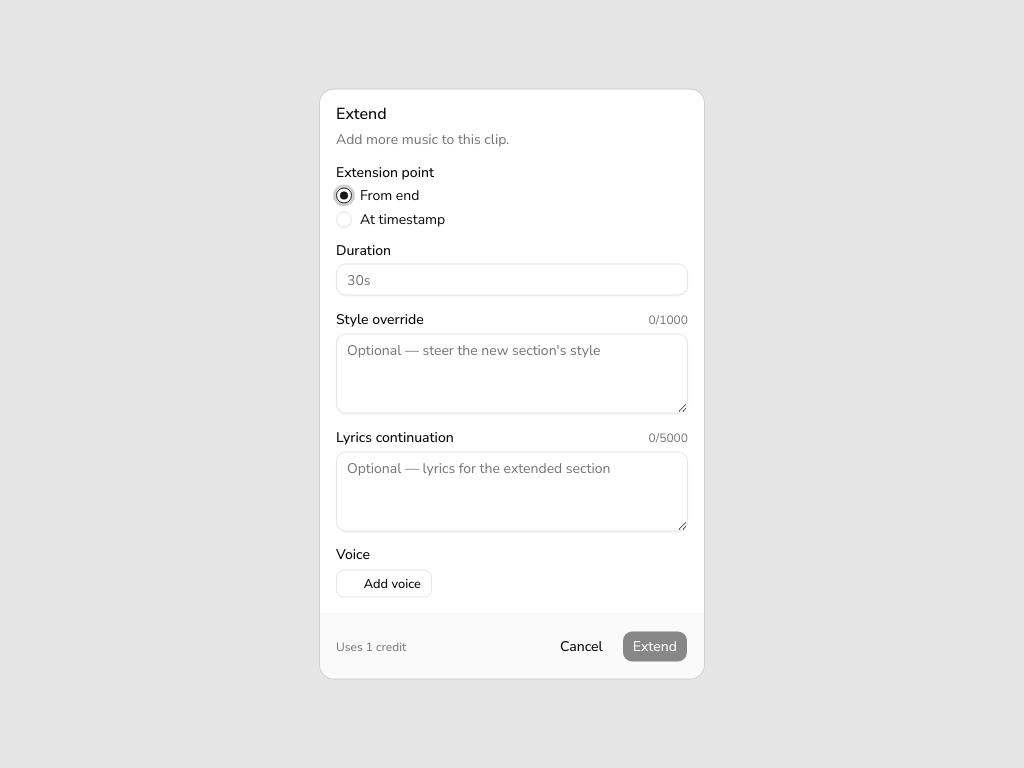
Test: ExtendModal › blocks an extend that would exceed the 240s generation cap
The image size is (1024, 768).
Type "60s" into the field labelled "Duration".
click(512, 280); type("60s")  # box [336,264,688,296]
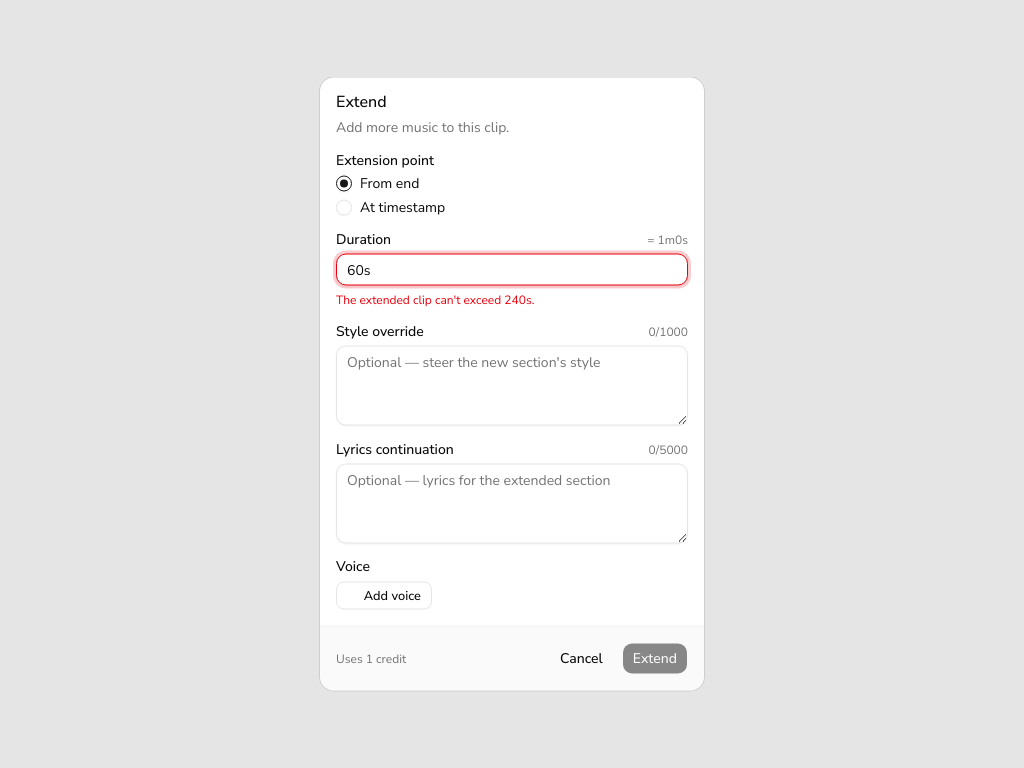
Expected: the button "Extend" is disabled, [622,642,688,674]
Expected: the text "The extended clip can't exceed 240s." is shown, [336,292,534,308]
